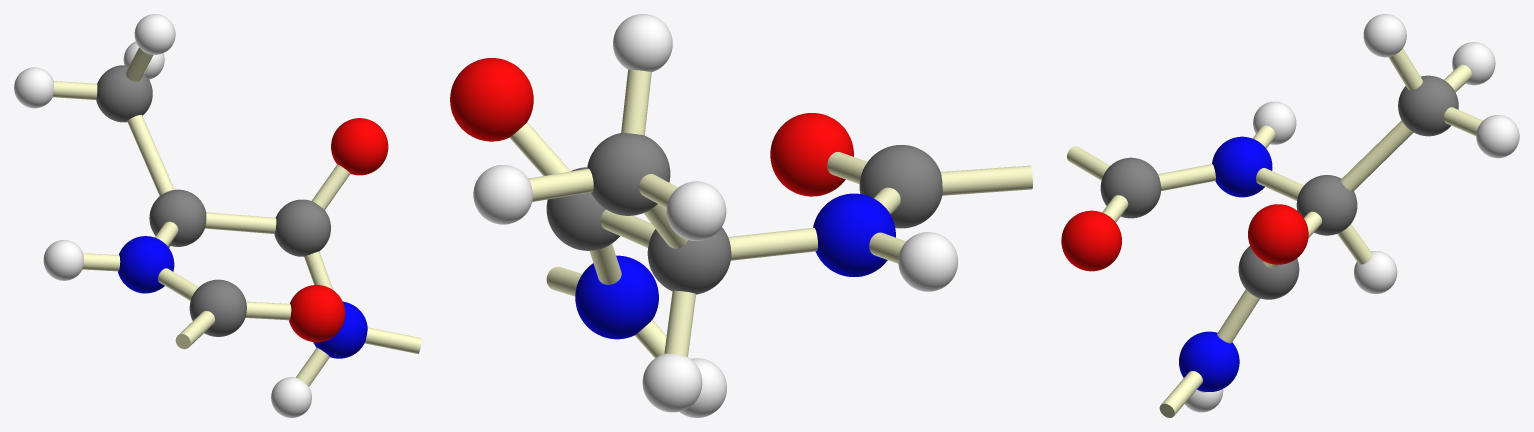
File: conformation.gltf
The picture shows the model from 3 angles, left to right: view 1: azimuth 30°, elevation 25°; view 2: azimuth 150°, elevation 25°; view 3: azimuth 270°, elevation 25°; orthographic projection. The views are drawn at different scales.
Visible parts, largest first — view 1: ?????????6, ?????????2, ?????????5, ?????????3, ?????????9, ?????????1, ?????????4, ?????????13, ?????????22, ?????????12, ?????????14, ?????????7 (+13 smaller); view 2: ?????????6, ?????????2, ?????????13, ?????????3, ?????????9, ?????????1, ?????????4, ?????????5, ?????????11, ?????????10, ?????????7, ?????????8 (+16 smaller); view 3: ?????????2, ?????????6, ?????????3, ?????????1, ?????????13, ?????????9, ?????????4, ?????????5, ?????????22, ?????????11, ?????????12, ?????????8 (+13 smaller).
Part boxes in pixels (box(x1,y1,x2,y2)): ?????????6: box(331, 118, 388, 175); ?????????2: box(289, 285, 345, 342); ?????????5: box(274, 199, 330, 256); ?????????3: box(118, 236, 174, 293); ?????????9: box(96, 65, 152, 122); ?????????1: box(189, 279, 246, 336); ?????????4: box(149, 189, 206, 246); ?????????13: box(313, 301, 367, 358); ?????????22: box(127, 115, 174, 195); ?????????12: box(134, 14, 175, 54); ?????????14: box(271, 377, 311, 417); ?????????7: box(43, 240, 83, 280); ?????????6: box(450, 58, 533, 141); ?????????2: box(770, 113, 853, 196); ?????????13: box(575, 255, 658, 339); ?????????3: box(813, 193, 895, 276); ?????????9: box(587, 133, 670, 215); ?????????1: box(859, 145, 942, 228); ?????????4: box(647, 227, 731, 294); ?????????5: box(546, 167, 619, 250); ?????????11: box(473, 165, 532, 224); ?????????10: box(666, 181, 726, 240); ?????????7: box(898, 232, 957, 291); ?????????8: box(642, 353, 702, 412); ?????????2: box(1061, 210, 1121, 271); ?????????6: box(1248, 204, 1308, 264); ?????????3: box(1212, 136, 1272, 197); ?????????1: box(1100, 157, 1161, 218); ?????????13: box(1179, 331, 1239, 391); ?????????9: box(1398, 75, 1458, 136); ?????????4: box(1296, 175, 1357, 235); ?????????5: box(1238, 246, 1299, 299); ?????????22: box(1341, 120, 1413, 191); ?????????11: box(1476, 115, 1519, 158); ?????????12: box(1363, 14, 1406, 57); ?????????8: box(1354, 251, 1397, 293).
Size of the model in its own units: 47.86 by 46.91 by 52.85.
